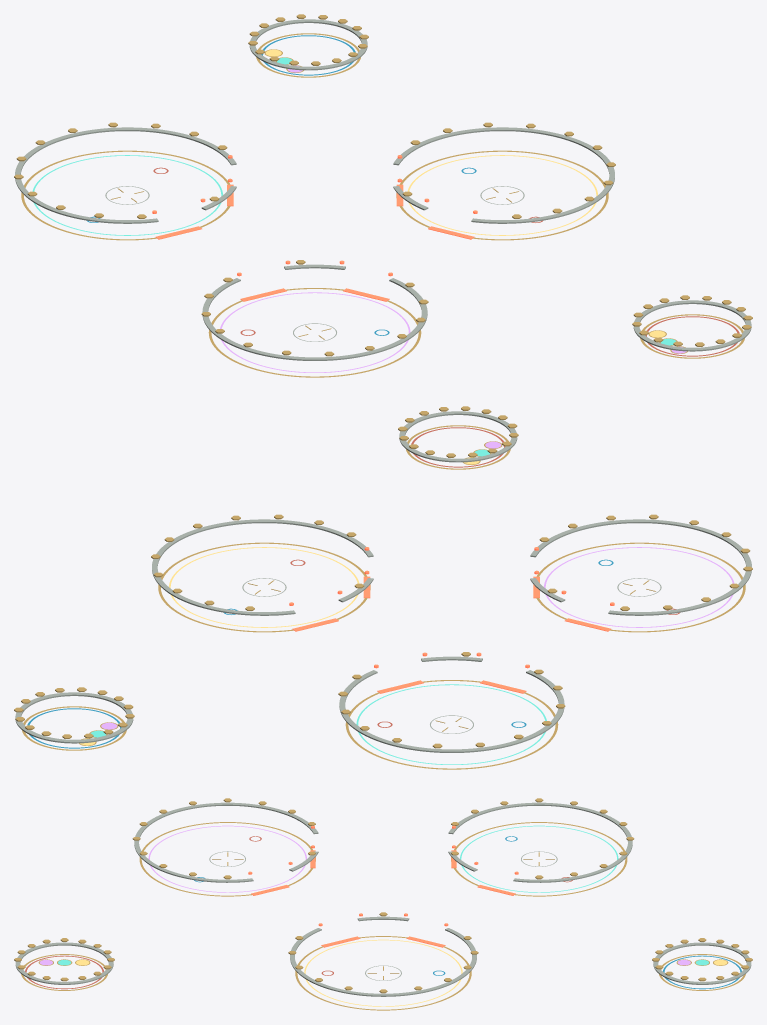
Rendered from SM_R02B_Inlays_and_Decoration.fbx.
3 renders of one model, top to bottom at view 1: azimuth 30°, elevation 25°; view 2: azimuth 150°, elevation 25°; view 3: azimuth 270°, elevation 25°, orthographic. The views are drawn at different scales.
Visible parts, largest first — view 1: SM_R02B_Inlays_and_Decoration; view 2: SM_R02B_Inlays_and_Decoration; view 3: SM_R02B_Inlays_and_Decoration.
Boxes of the visible parts, bbox=[...] form: SM_R02B_Inlays_and_Decoration: bbox=[14, 14, 752, 377]; SM_R02B_Inlays_and_Decoration: bbox=[14, 406, 752, 769]; SM_R02B_Inlays_and_Decoration: bbox=[14, 798, 752, 1010].
Bounding box in the file's own units: 6187 × 9964 × 344.
